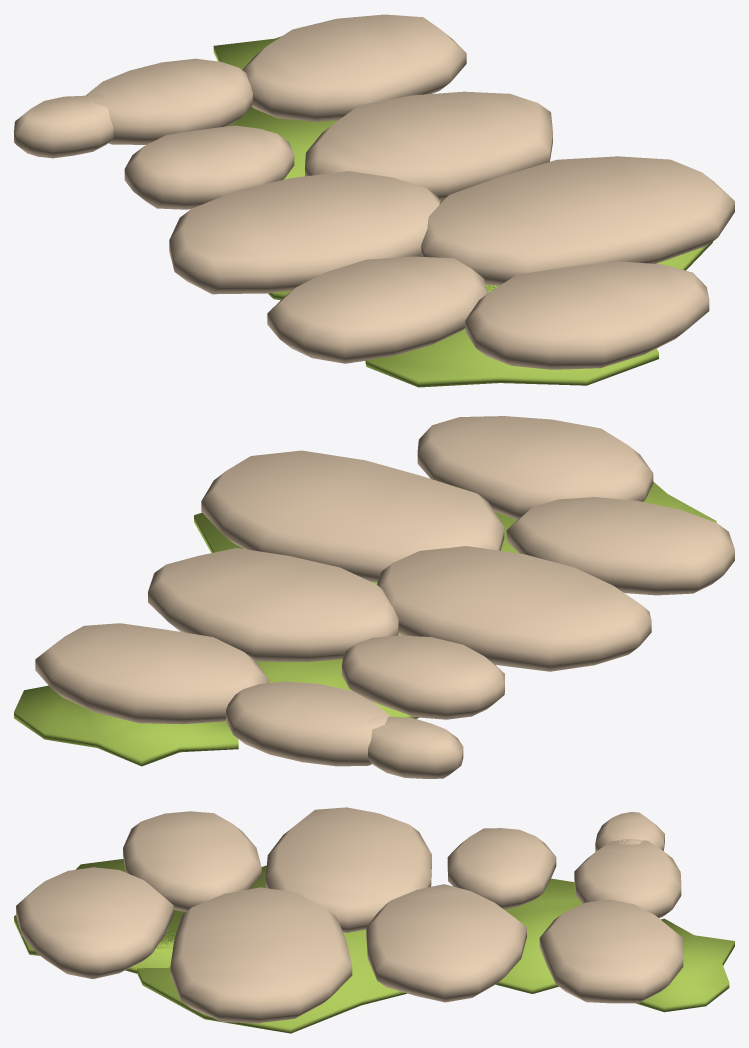
The model's file is stepping-stones.glb.
3 views of the same model, one above another, from view 1: azimuth 30°, elevation 25°; view 2: azimuth 150°, elevation 25°; view 3: azimuth 270°, elevation 25° (orthographic). The views are drawn at different scales.
Visible parts, largest first — view 1: body; view 2: body; view 3: body.
Part boxes in pixels (<box>): body: <box>14,14,734,387</box>; body: <box>14,416,734,778</box>; body: <box>14,807,734,1033</box>.
Size of the model in its own units: 1.06 by 0.085 by 1.64.
